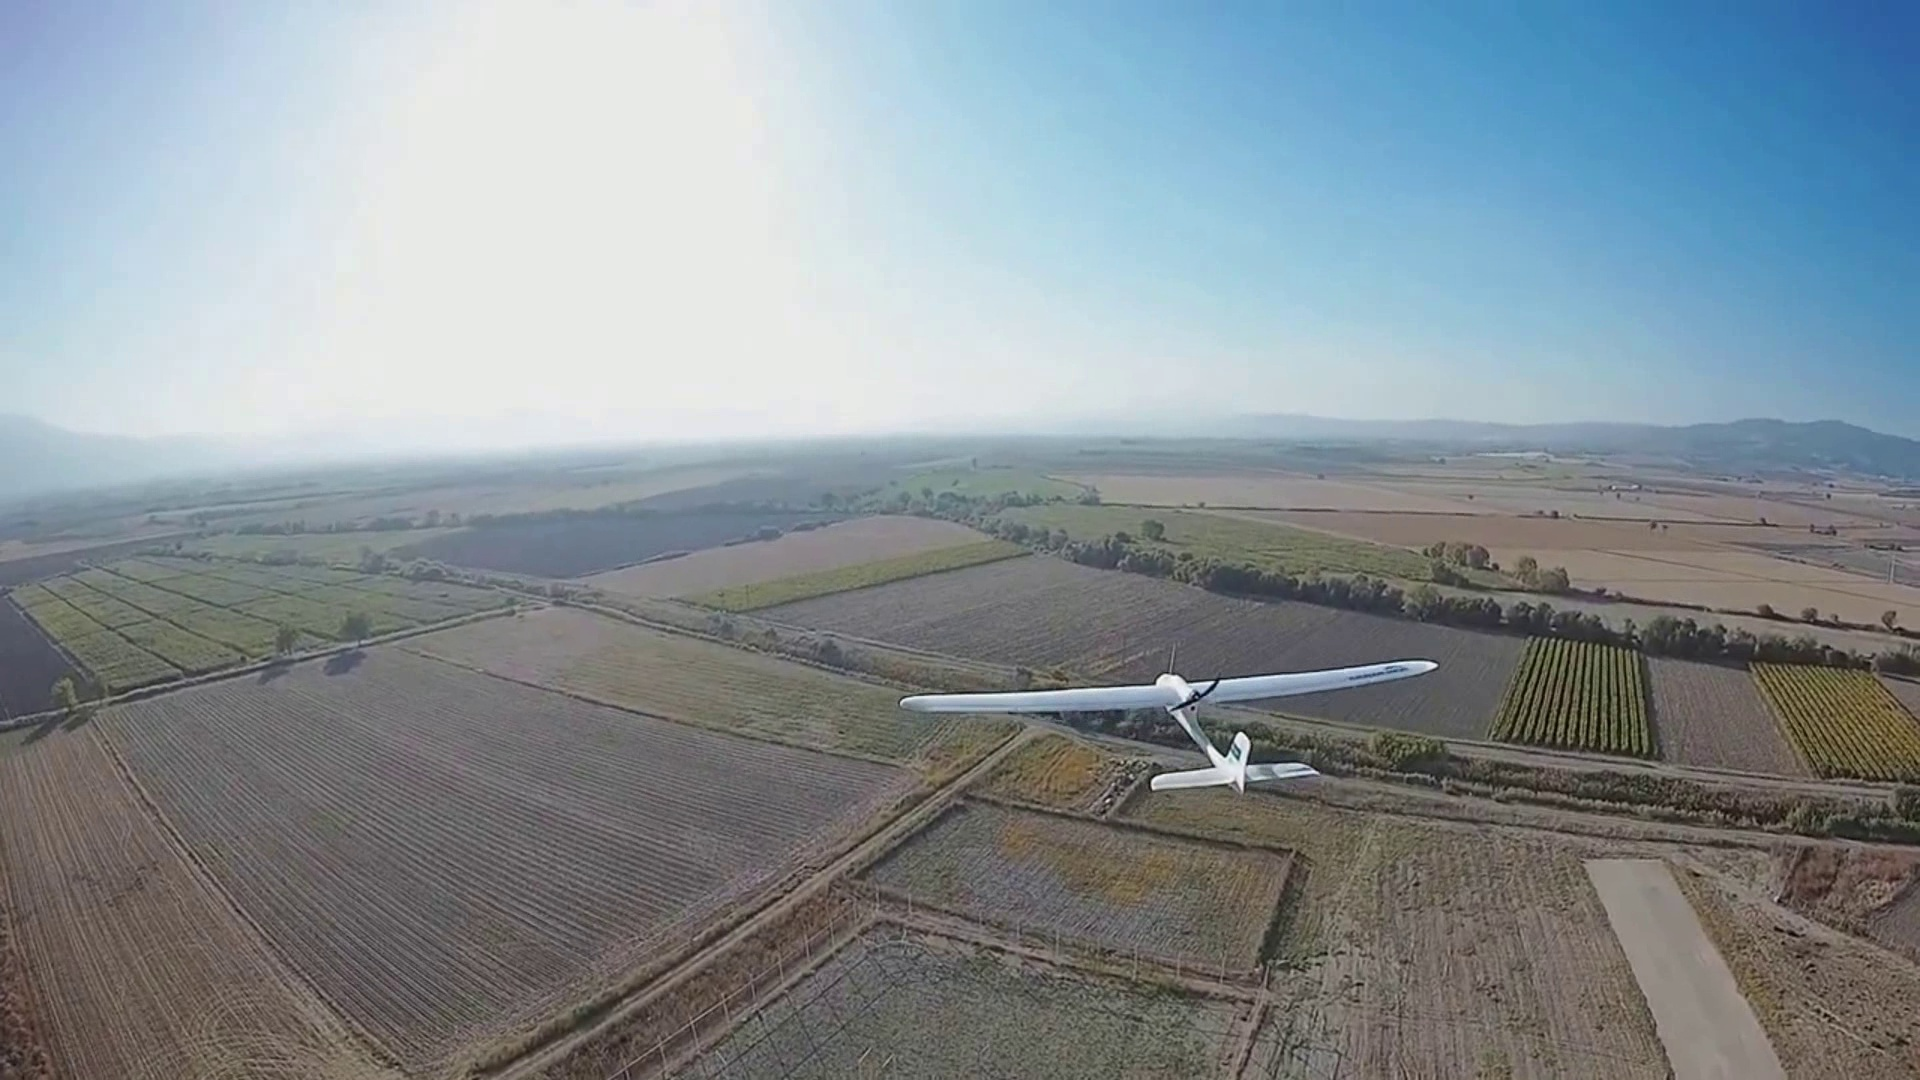airplane: (894, 658, 1444, 796)
